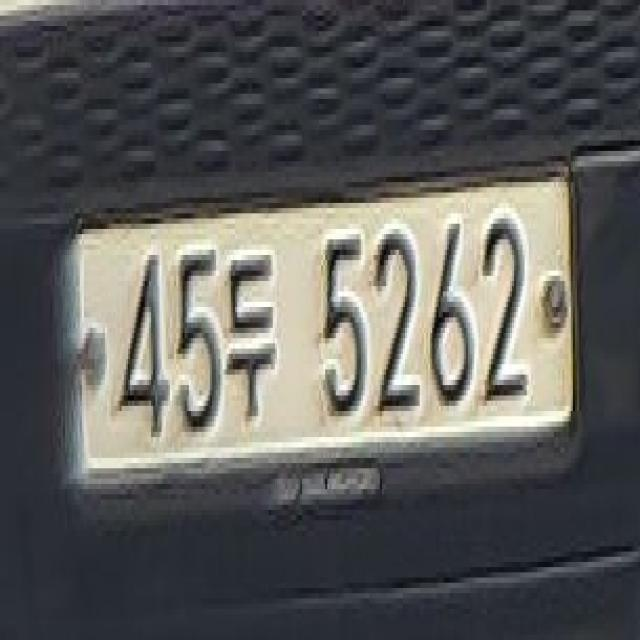plat: (59, 164, 582, 498)
